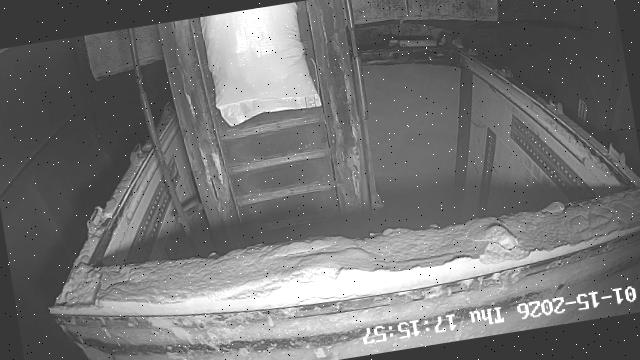bag: (199, 0, 324, 130)
